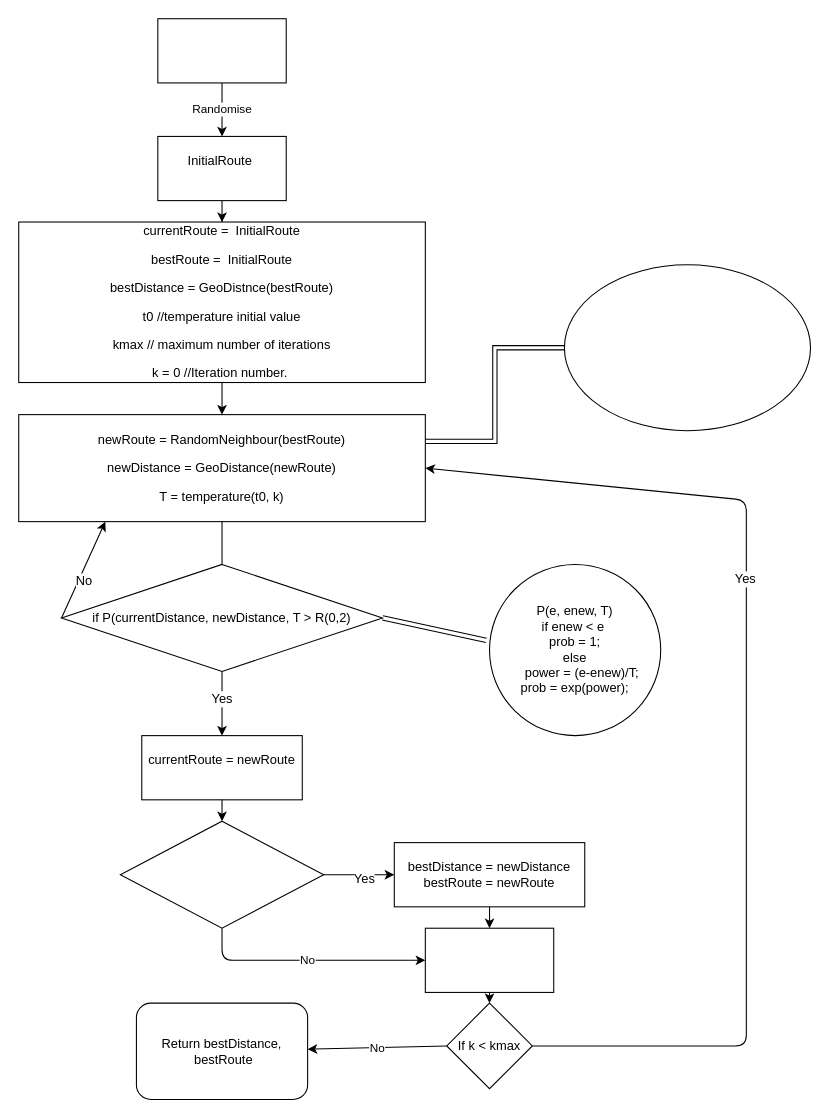
Image size: 829x1118. Some labels were removed from this diagram. The shapes that lost their labels are listed below. From the top down, each one's centre as x and y in pixels, then its label:
point 221,50: Input Cities
point 687,347: temperature(t0, k) t0/log(k)
point 221,874: If currentDistance<bestDistance
point 489,959: k++
